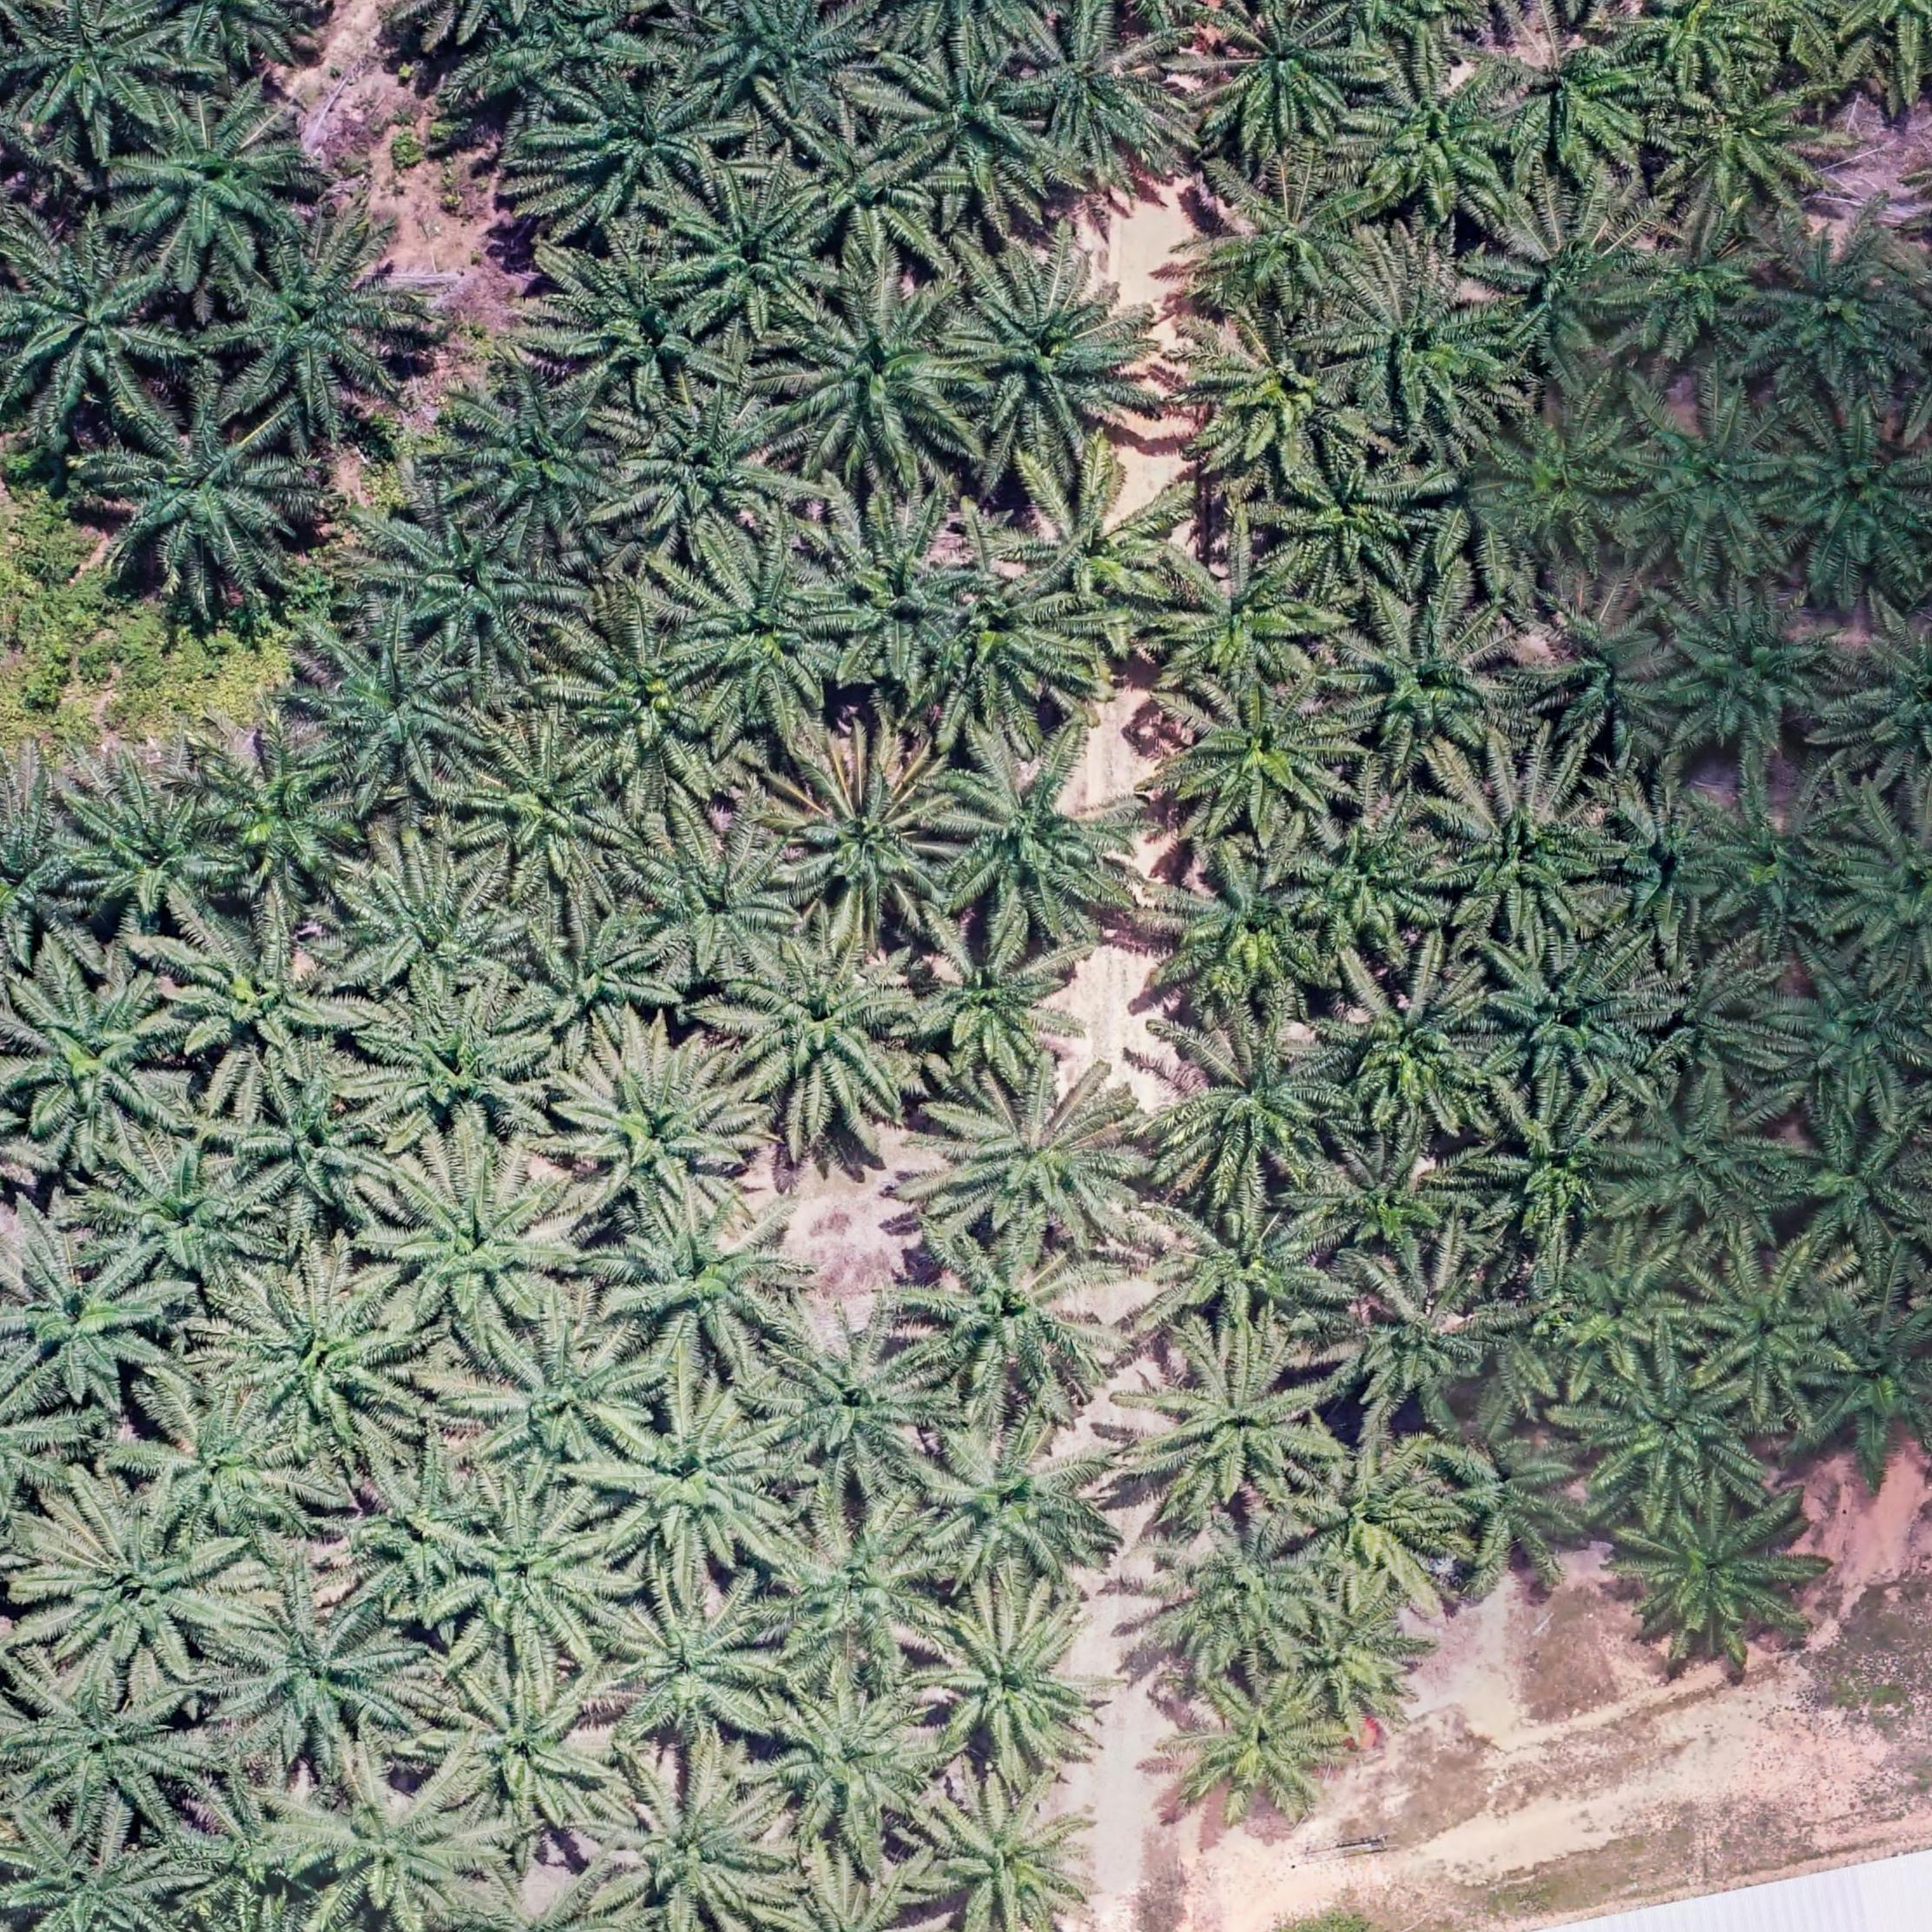palmtree: (937, 241, 1169, 467), (925, 722, 1151, 942), (914, 1058, 1154, 1260), (711, 930, 934, 1141), (542, 1032, 764, 1241), (209, 221, 426, 431), (95, 388, 312, 595), (762, 731, 969, 936), (1121, 1326, 1342, 1518), (770, 275, 981, 475), (914, 1226, 1133, 1412), (1321, 583, 1528, 777), (214, 1263, 424, 1454), (345, 504, 589, 669), (1609, 387, 1810, 587), (213, 1580, 424, 1770), (28, 1490, 232, 1682), (1640, 574, 1847, 763), (373, 1149, 580, 1338), (911, 1588, 1110, 1778), (510, 69, 732, 239), (590, 1388, 789, 1577), (1421, 762, 1620, 950), (909, 1409, 1111, 1595), (1511, 572, 1697, 769), (1157, 673, 1364, 849), (603, 1193, 803, 1375), (803, 491, 984, 692), (664, 542, 859, 726), (1144, 842, 1340, 1025), (778, 106, 975, 287), (1571, 1342, 1770, 1520), (114, 95, 305, 279), (453, 1311, 655, 1484), (1318, 953, 1504, 1139), (155, 905, 351, 1082), (435, 1485, 624, 1667), (1132, 1513, 1333, 1685), (1137, 1187, 1348, 1350), (425, 1653, 620, 1829), (1751, 220, 1925, 417), (6, 961, 190, 1146), (590, 1751, 783, 1928), (1157, 1658, 1355, 1830), (1160, 1012, 1351, 1189), (755, 1678, 946, 1855), (764, 1500, 952, 1679), (1467, 397, 1657, 573), (1610, 1490, 1809, 1658), (1600, 1076, 1793, 1249), (611, 381, 804, 551), (1767, 399, 1932, 598), (1414, 1408, 1599, 1585), (540, 239, 726, 414), (1646, 61, 1836, 232), (1184, 162, 1388, 321), (356, 986, 551, 1151), (456, 723, 635, 902), (1321, 1253, 1501, 1429), (1687, 763, 1861, 946), (5, 227, 178, 412), (1473, 935, 1661, 1104), (15, 1659, 201, 1827), (765, 1314, 946, 1486), (1322, 261, 1510, 425), (1480, 196, 1657, 371), (907, 1773, 1099, 1932), (331, 842, 518, 1005), (301, 630, 485, 795), (1757, 945, 1931, 1118), (1467, 1083, 1645, 1253), (572, 604, 718, 808), (1153, 544, 1349, 693), (603, 1585, 777, 1751), (308, 1763, 491, 1922), (1517, 1236, 1700, 1394), (665, 171, 840, 336), (903, 912, 1078, 1075), (1344, 53, 1520, 216), (1283, 1434, 1456, 1599), (454, 367, 611, 548), (1002, 460, 1186, 612), (1689, 1250, 1856, 1416), (234, 1070, 399, 1236), (504, 900, 676, 1058), (93, 1137, 275, 1286), (1007, 9, 1178, 168), (56, 782, 238, 932), (7, 1247, 173, 1410), (331, 1447, 498, 1608), (875, 45, 1047, 200), (950, 568, 1091, 755), (1770, 1102, 1932, 1266), (1817, 577, 1932, 806), (1263, 432, 1427, 593), (1193, 0, 1373, 146), (195, 730, 365, 883), (1798, 1293, 1932, 1487), (664, 0, 872, 123), (136, 1388, 302, 1540), (1612, 220, 1780, 368), (641, 802, 784, 975), (1201, 332, 1365, 480), (5, 0, 178, 138), (171, 1789, 334, 1932), (1637, 953, 1790, 1100), (1821, 788, 1932, 979), (1597, 763, 1702, 964), (1330, 1124, 1456, 1283), (0, 1823, 180, 1932), (1517, 54, 1645, 206), (1303, 825, 1421, 955), (1618, 0, 1778, 88), (748, 1868, 957, 1931)
